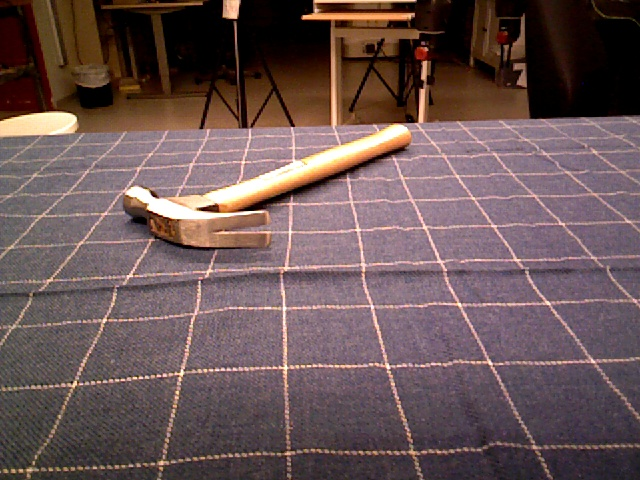hammer1: (122, 123, 415, 248)
